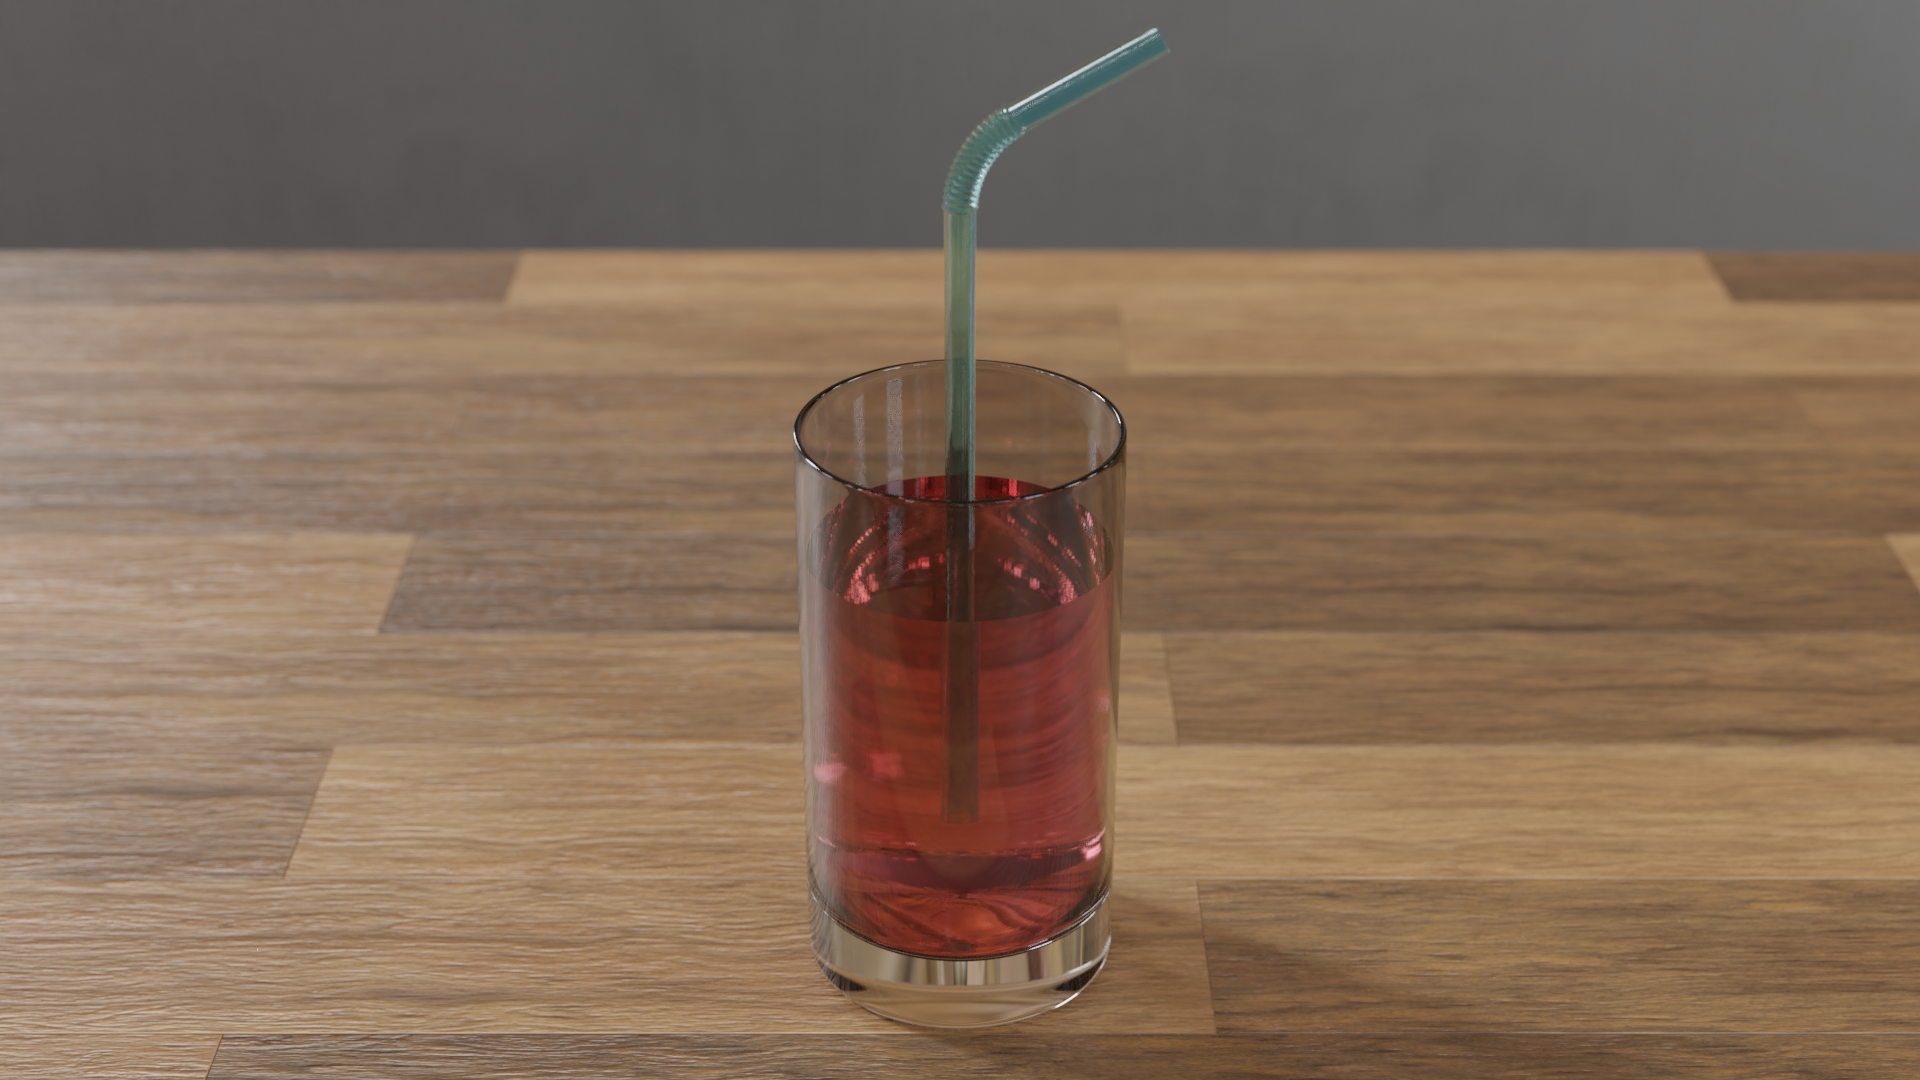Drinking Straw: (927, 20, 1178, 833)
